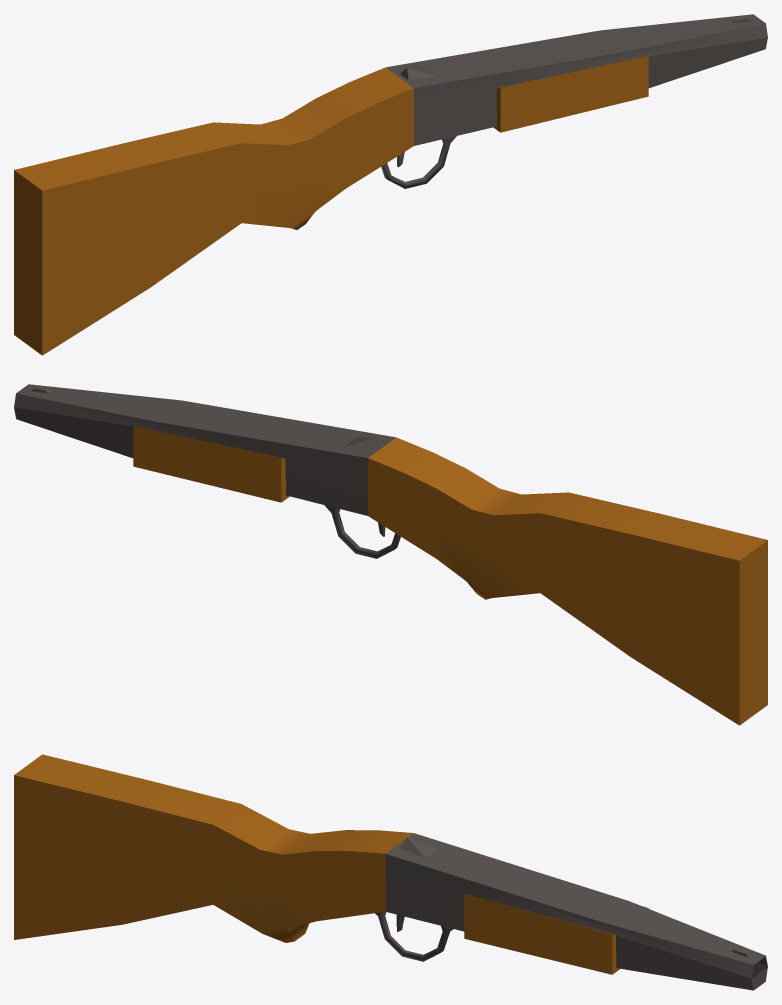
File: shotgun.fbx
3 views of the same model, one above another, from view 1: azimuth 30°, elevation 25°; view 2: azimuth 150°, elevation 25°; view 3: azimuth 330°, elevation 25° (orthographic).
Parts seen in each view (by area): view 1: pCube5; view 2: pCube5; view 3: pCube5.
Part boxes in pixels (left/top/right/bottom): pCube5: left=14, top=14, right=767, bottom=355; pCube5: left=14, top=384, right=767, bottom=725; pCube5: left=14, top=754, right=767, bottom=990.
Bounding box in the file's own units: 405 × 97.9 × 34.72.
